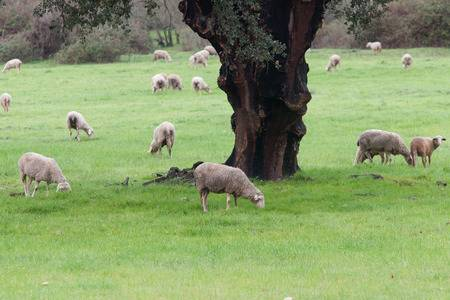sheep: (192, 160, 268, 216), (355, 128, 413, 177), (16, 152, 73, 199), (409, 127, 446, 164), (147, 119, 178, 158), (64, 110, 97, 142), (1, 57, 23, 76), (149, 72, 168, 93), (189, 50, 209, 69), (191, 76, 212, 94), (324, 54, 342, 73), (152, 49, 173, 64), (169, 71, 183, 91), (1, 93, 14, 113), (365, 40, 382, 54), (400, 53, 414, 70)
